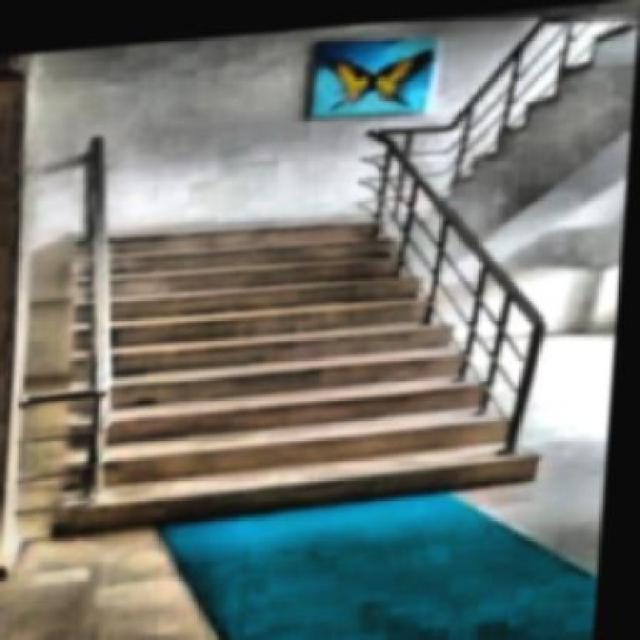stair: (35, 184, 557, 534)
